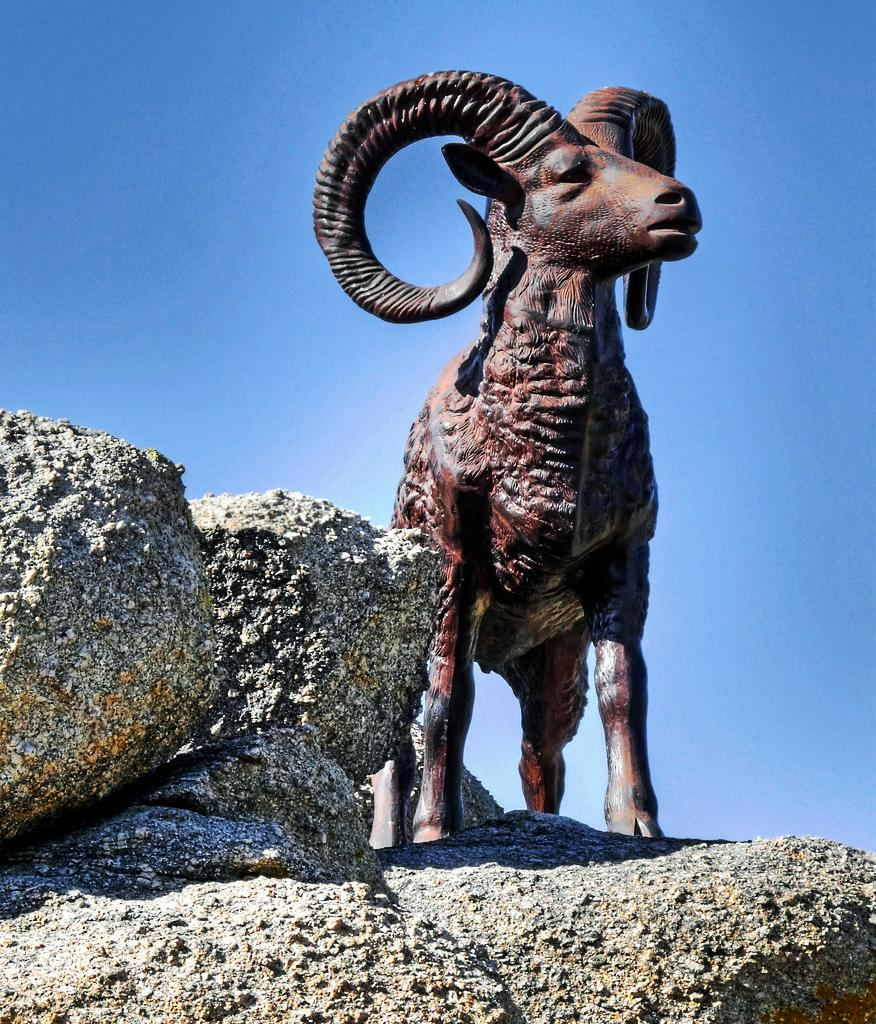Sheep: (308, 66, 729, 850)
